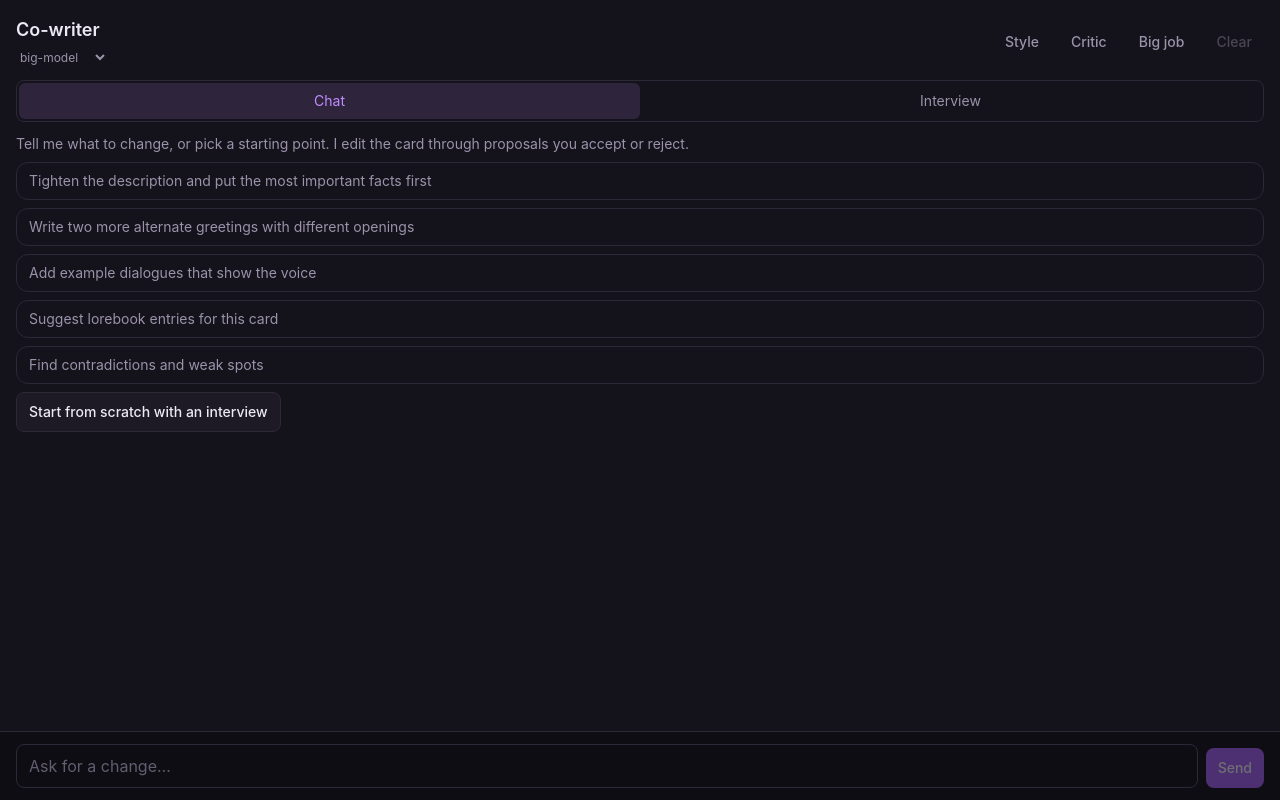
Test: critic › reviews the card, then has the co-writer fix what it found
This screenshot has width=1280, height=800.
Click the button "Critic" at (1089, 42), box [1059,22,1119,62]
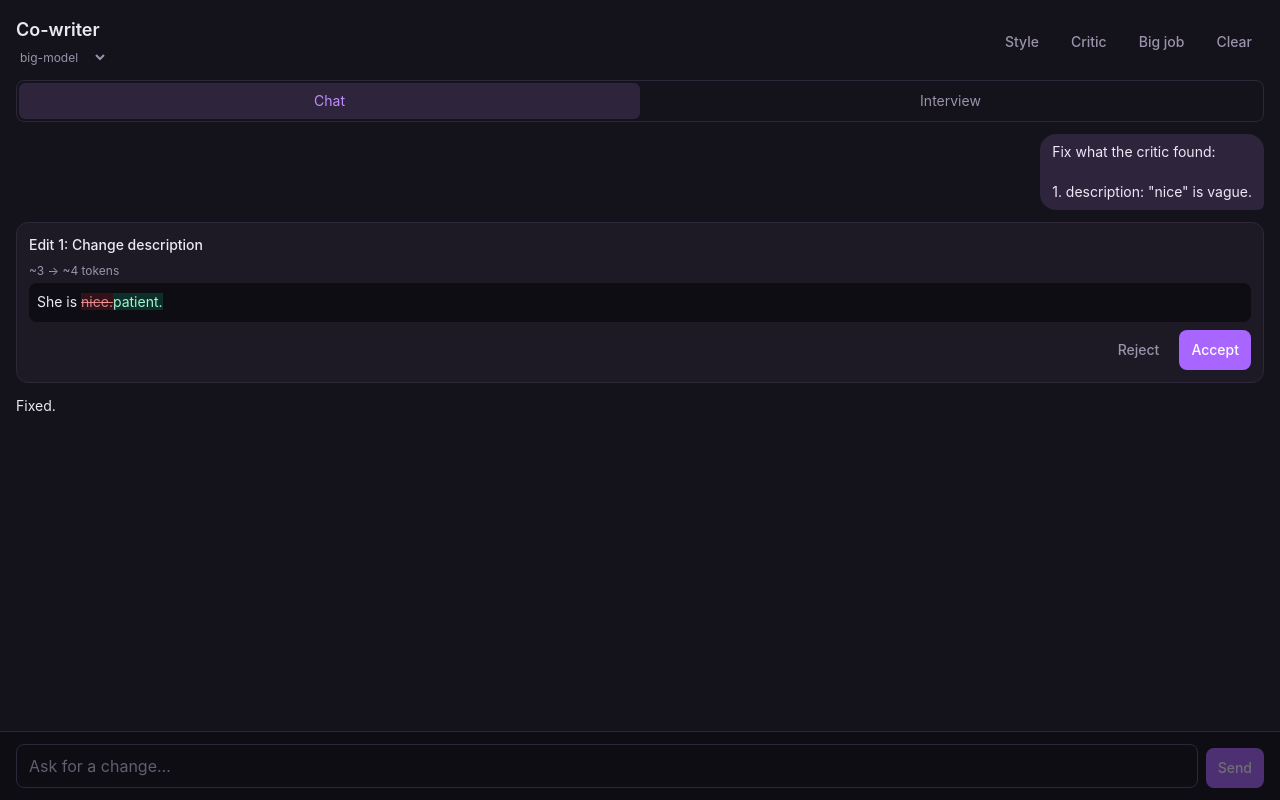
Check: the text "Fixed." is shown, box [16,397,56,414]
Check: the text "Fix what the critic found: 1. description: \"nice\" is vague." is shown, box [1040,134,1264,210]
Check: the text "Edit 1: Change description" is shown, box [29,235,203,255]
